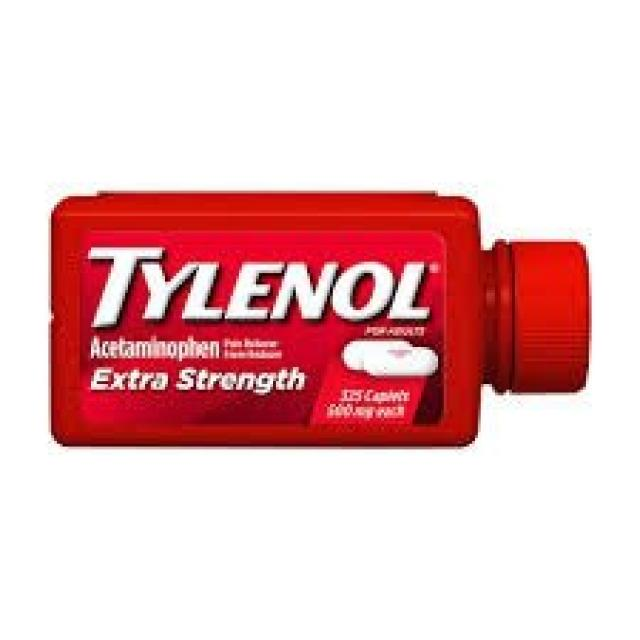food-supliment: (50, 211, 479, 438)
